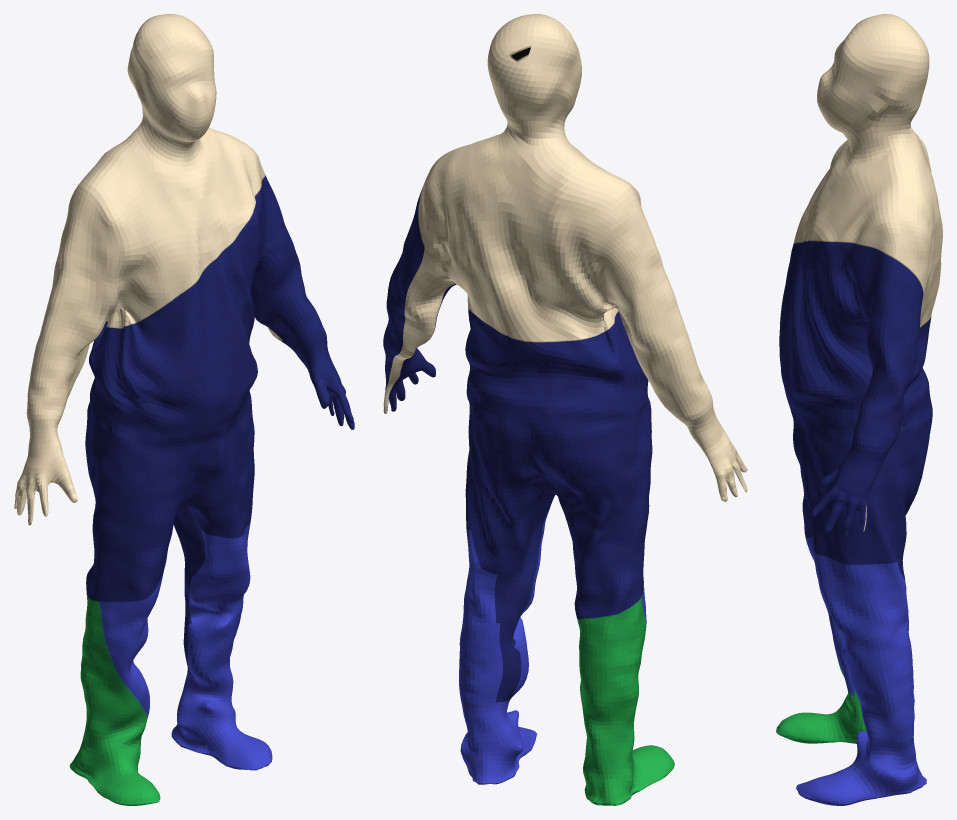
The picture shows the model from 3 angles, left to right: view 1: azimuth 30°, elevation 25°; view 2: azimuth 150°, elevation 25°; view 3: azimuth 270°, elevation 25°; orthographic projection. The views are drawn at different scales.
Parts seen in each view (by area): view 1: Kuratchi_l_no_rig_ver.1.0; view 2: Kuratchi_l_no_rig_ver.1.0; view 3: Kuratchi_l_no_rig_ver.1.0.
Part boxes in pixels (x1,y1,x2,y2): Kuratchi_l_no_rig_ver.1.0: (14, 14, 354, 805); Kuratchi_l_no_rig_ver.1.0: (383, 14, 747, 805); Kuratchi_l_no_rig_ver.1.0: (776, 14, 942, 805).
Bounding box in the file's own units: 0.8119 × 1.72 × 0.3459.
